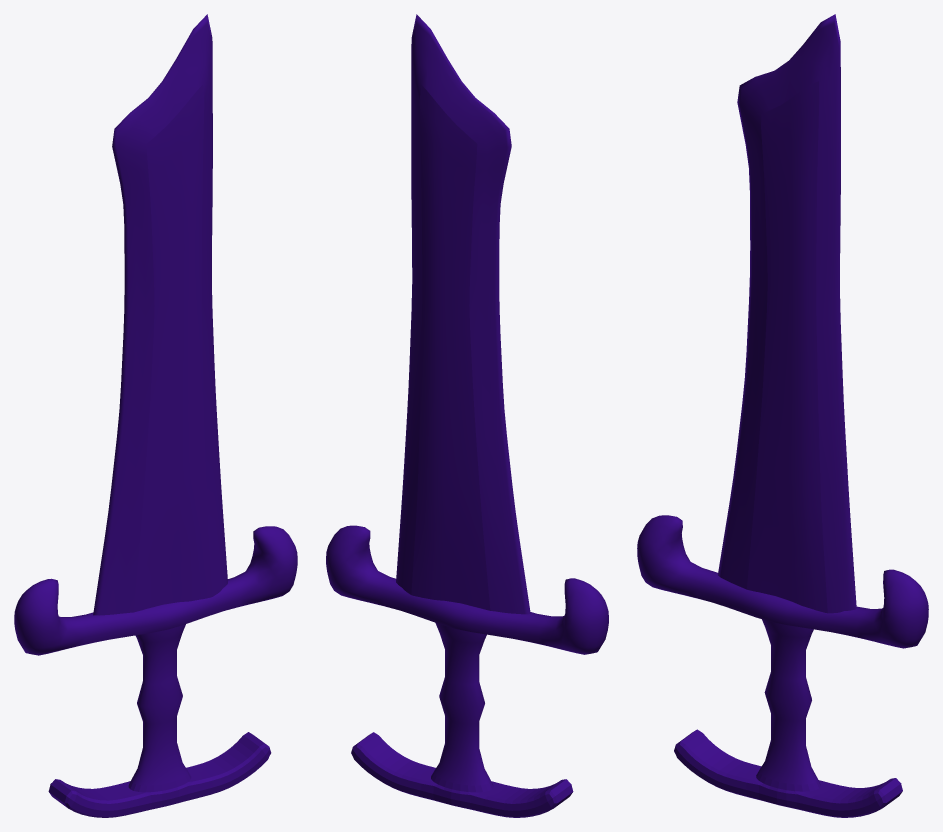
The model's file is 3D_PROP_WEAPON_SwordHeavy.fbx.
3 views of the same model, side by side, from view 1: azimuth 30°, elevation 25°; view 2: azimuth 150°, elevation 25°; view 3: azimuth 330°, elevation 25° (orthographic). The views are drawn at different scales.
Parts seen in each view (by area): view 1: Object001; view 2: Object001; view 3: Object001.
Part boxes in pixels (x1,y1,x2,y2): Object001: (14,14,297,817); Object001: (326,14,608,817); Object001: (637,14,928,817).
Bounding box in the file's own units: 14.73 × 39.33 × 2.45.
